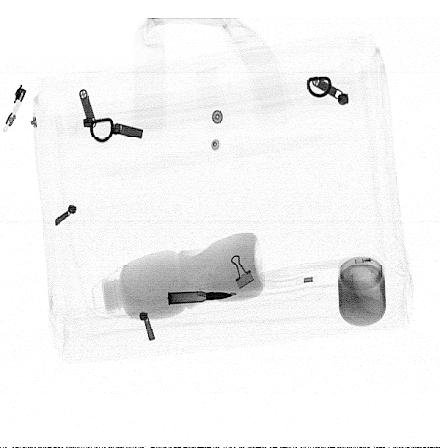Bullet: (167, 291, 235, 305)
